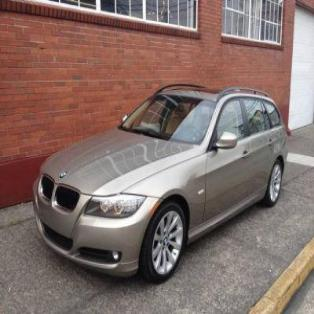Auto: (32, 82, 291, 284)
